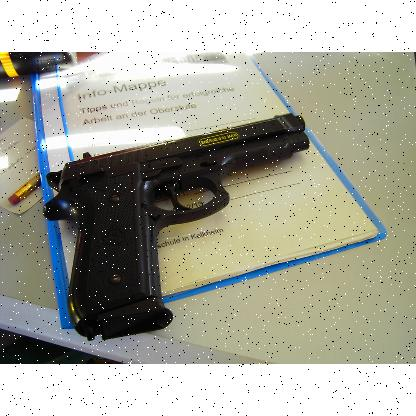gun: (42, 112, 310, 340)
